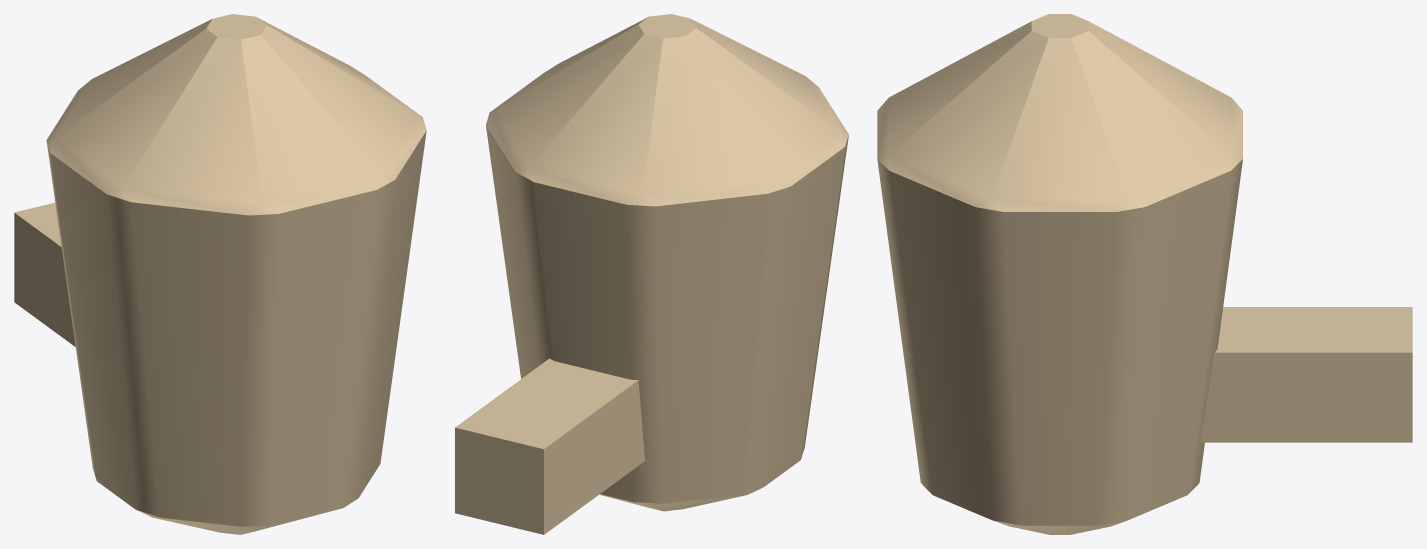
Rendered from Lantern.fbx.
3 renders of one model, left to right at view 1: azimuth 30°, elevation 25°; view 2: azimuth 150°, elevation 25°; view 3: azimuth 270°, elevation 25°, orthographic. The views are drawn at different scales.
Visible parts, largest first — view 1: lantern; view 2: lantern; view 3: lantern.
Part boxes in pixels (x1,y1,x2,y2): lantern: (14, 14, 426, 534); lantern: (455, 14, 848, 534); lantern: (877, 14, 1412, 534).
Size of the model in its own units: 13.8 by 20.74 by 20.19.
